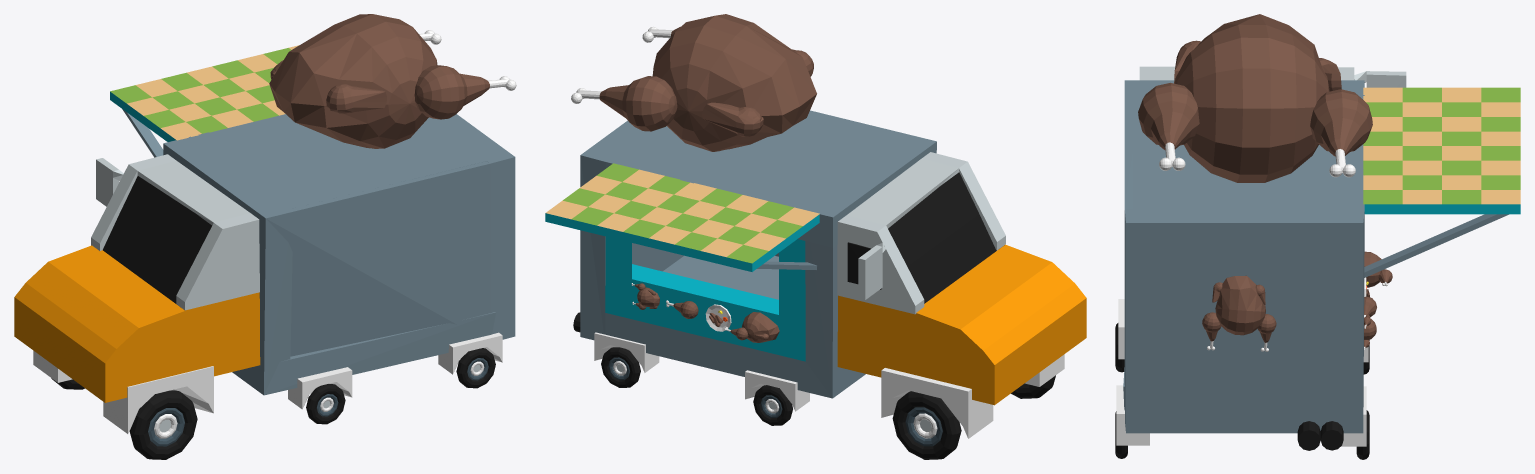
File: Chicken Truck.glb
The picture shows the model from 3 angles, left to right: view 1: azimuth 30°, elevation 25°; view 2: azimuth 150°, elevation 25°; view 3: azimuth 270°, elevation 25°; orthographic projection. The views are drawn at different scales.
Visible parts, largest first — view 1: group934729322, group572770700, group1086031423, group483805735, group1891252473, group1709927739, group959526367, group1434556701, group944767584, group965558297, group567284715, group1825844925 (+9 smaller); view 2: group934729322, group1086031423, group1891252473, group483805735, group959526367, group1709927739, group346295656, group1434556701, group368228645, group1808298422, group567284715, group2088504716 (+12 smaller); view 3: group1434556701, group1891252473, group483805735, group1086031423, group262248674, group1841905295, group911283176, group239368340, group2078895660, group572770700, group436816632, group884443619 (+6 smaller).
Boxes of the visible parts, x1,y1,x2,y2 form: group934729322: (14,176,260,402); group572770700: (266,161,490,356); group1086031423: (163,114,486,245); group483805735: (269,14,437,148); group1891252473: (110,45,299,141); group1709927739: (183,136,292,395); group959526367: (264,312,495,395); group1434556701: (428,114,515,339); group944767584: (176,213,259,310); group965558297: (129,390,197,459); group567284715: (137,160,250,225); group1825844925: (103,366,213,433); group934729322: (837,172,1086,405); group1086031423: (605,113,933,247); group1891252473: (545,163,819,271); group483805735: (652,14,816,151); group959526367: (605,255,832,398); group1709927739: (805,134,936,398); group346295656: (632,264,787,354); group1434556701: (580,120,683,340); group368228645: (837,215,924,314); group1808298422: (892,391,961,459); group567284715: (847,158,959,228); group2088504716: (881,368,993,438); group1434556701: (1124,208,1364,433); group1891252473: (1363,87,1520,214); group483805735: (1174,14,1329,182); group1086031423: (1133,80,1364,208); group262248674: (1202,275,1276,351); group1841905295: (1310,89,1372,156); group911283176: (1138,82,1199,149); group239368340: (1364,214,1508,277); group2078895660: (1364,251,1392,350); group572770700: (1124,96,1132,208); group436816632: (1116,385,1149,445); group884443619: (1366,71,1406,87).
Size of the model in its own units: 7.48 by 5.8 by 5.3.
